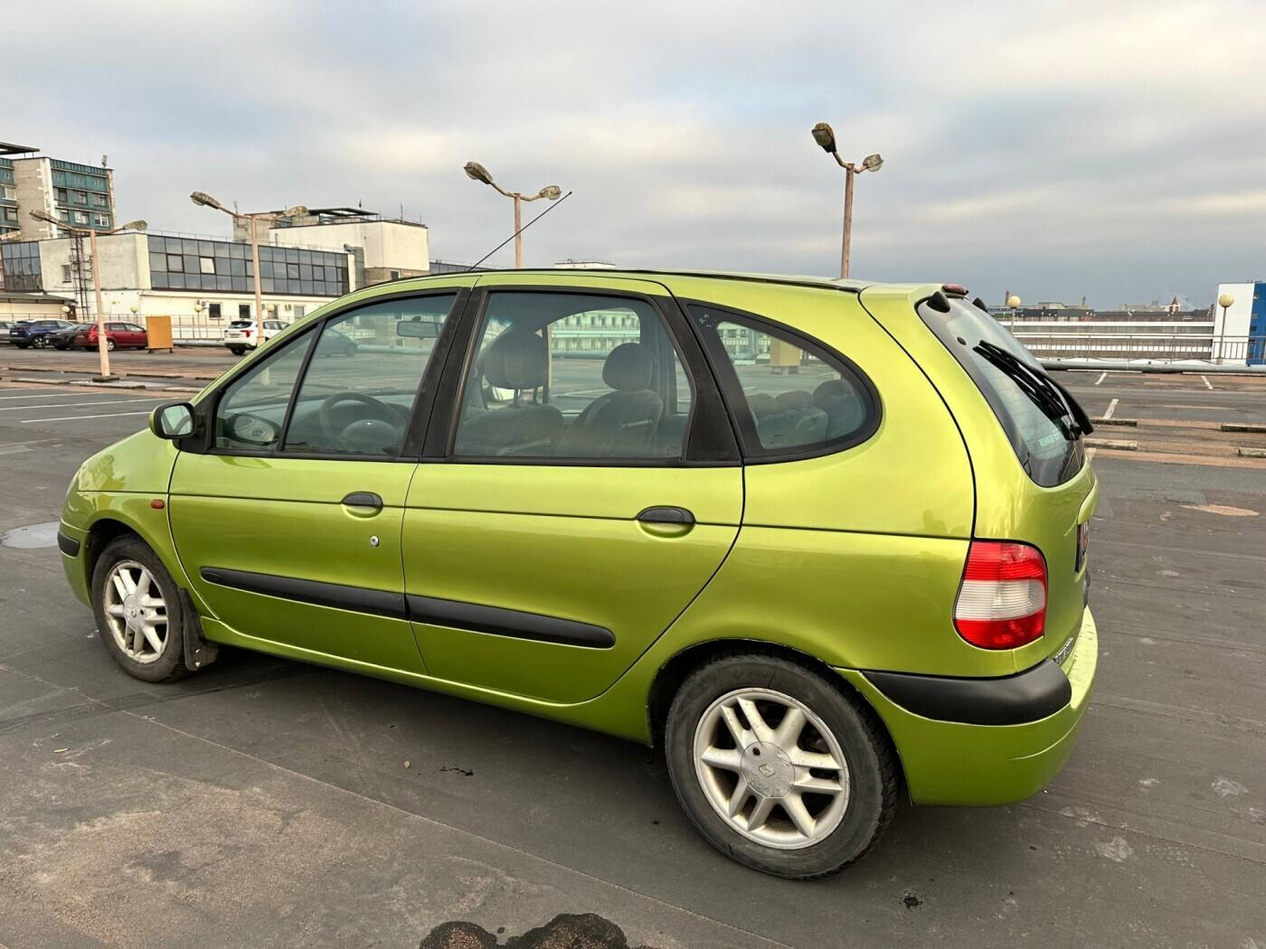Megane_1999-2003: (49, 263, 1114, 851)
